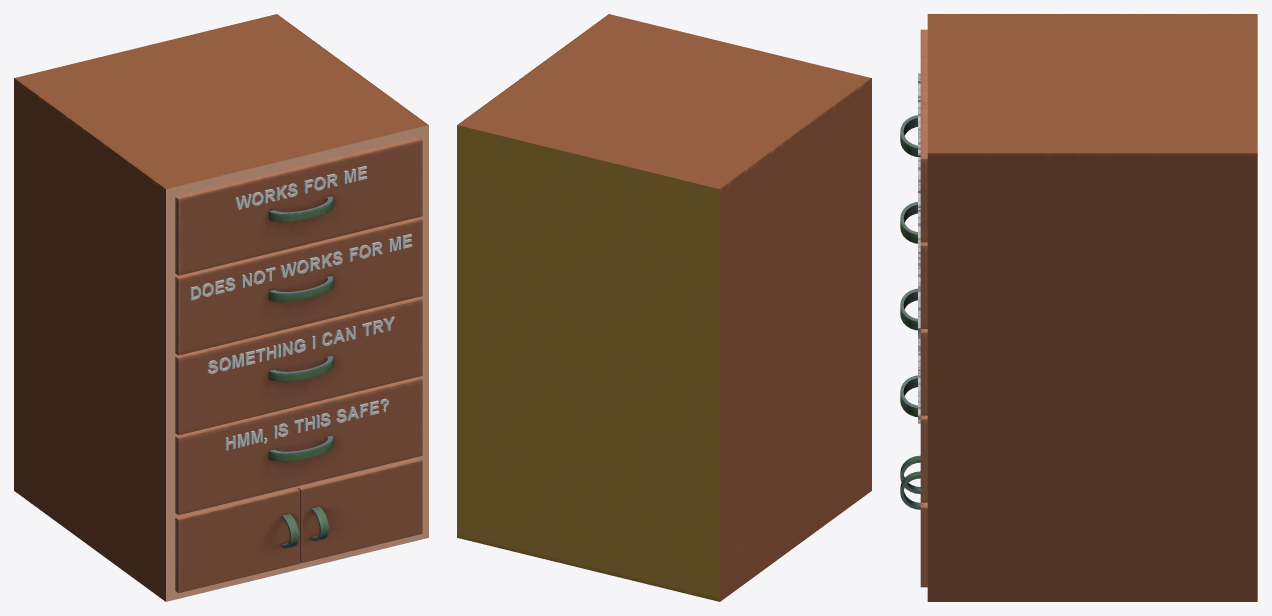
The model's file is Drawer_Cabinet_and Labels_REVISION_02.FBX.
3 renders of one model, left to right at view 1: azimuth 30°, elevation 25°; view 2: azimuth 150°, elevation 25°; view 3: azimuth 270°, elevation 25°, orthographic. The views are drawn at different scales.
Parts seen in each view (by area): view 1: Cabinet_v02, Drawer_A, Drawer_D, Drawer_C, Drawer_B, Door_Left, Door_Right, Does_Not_Works, Something_to_Try, Hmm_Is_Safe, Works_for_me; view 2: Cabinet_v02; view 3: Cabinet_v02, Drawer_A, Drawer_D, Drawer_C, Drawer_B, Door_Right.
Part boxes in pixels (x1,y1,x2,y2): Cabinet_v02: (14, 14, 428, 601); Drawer_A: (175, 137, 422, 275); Drawer_D: (175, 376, 422, 514); Drawer_C: (175, 297, 422, 435); Drawer_B: (175, 217, 422, 355); Door_Left: (175, 488, 299, 592); Door_Right: (298, 458, 422, 563); Does_Not_Works: (190, 234, 412, 300); Something_to_Try: (207, 316, 394, 373); Hmm_Is_Safe: (225, 398, 388, 450); Works_for_me: (235, 166, 367, 209); Cabinet_v02: (457, 14, 871, 601); Cabinet_v02: (927, 14, 1257, 601); Drawer_A: (900, 29, 927, 242); Drawer_D: (900, 375, 927, 502); Drawer_C: (900, 288, 927, 415); Drawer_B: (900, 202, 927, 328); Door_Right: (900, 471, 927, 587).
Size of the model in its own units: 50 by 75 by 54.17.
